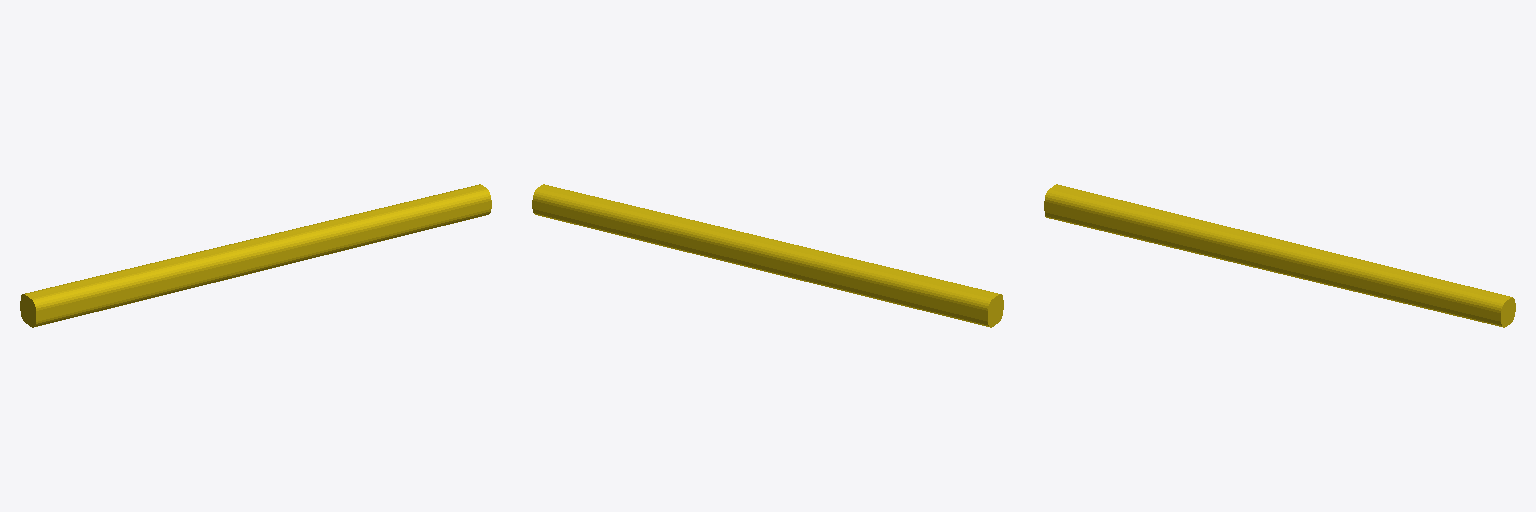
The robot description file, URDF, robot "cb_chopstick_t35d115":
<?xml version="1.0"?>
<!-- ContactBench chopstick. Generated by FoundationTouch tools/contactbench/make_contactbench_assets.py -->
<robot name="cb_chopstick_t35d115">
  <material name="c"><color rgba="0.85 0.75 0.10 1.0"/></material>
  <link name="object">
    <visual><origin xyz="0 0 0" rpy="0 0 0"/><geometry><mesh filename="chopstick.obj" scale="1 1 1"/></geometry><material name="c"/></visual>
    <collision><origin xyz="0 0 0" rpy="0 0 0"/><geometry><mesh filename="coll_00.obj" scale="1 1 1"/></geometry></collision>
    <inertial><mass value="7.634123e-04"/><origin xyz="0 0 0" rpy="0 0 0"/><inertia ixx="1.728928e-09" ixy="1.986454e-16" ixz="-6.511373e-17" iyy="3.118565e-07" iyz="4.344334e-16" izz="3.118565e-07"/></inertial>
  </link>
</robot>

--- Facts derived from the render (not from the file) ---
3 views of the same robot in one strip: view 1: azimuth 30°, elevation 25°; view 2: azimuth 150°, elevation 25°; view 3: azimuth 330°, elevation 25° (orthographic).
Model cb_chopstick_t35d115 with 1 links and 0 joints (none), rooted at object, posed all joints at 0.
Links seen in each view (by area): view 1: object; view 2: object; view 3: object.
Boxes of the visible links, x1=… form: object: x1=20, y1=184, x2=491, y2=327; object: x1=532, y1=184, x2=1003, y2=327; object: x1=1044, y1=184, x2=1515, y2=327.
Size in the robot's own frame: 0.07 by 0.0041 by 0.0041 metres.
1 mesh visuals loaded from 1 distinct referenced files (1 OBJ).
